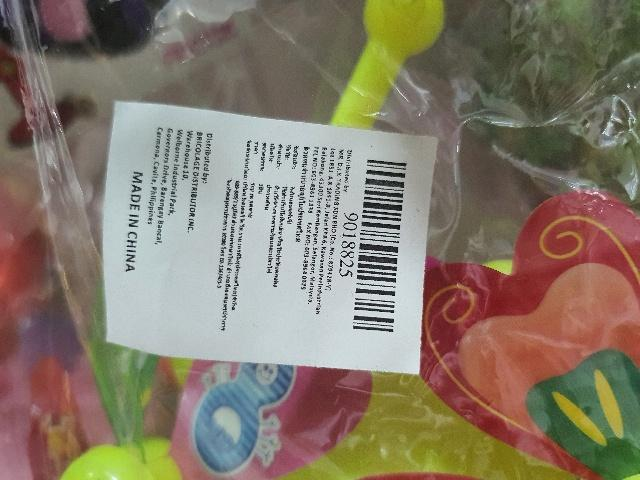Barcode: (340, 146, 413, 342)
